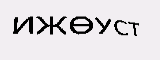О: (76, 22, 91, 46), (91, 22, 105, 42)
Р: (105, 22, 121, 41)
У: (62, 24, 79, 49)
Ф: (42, 24, 64, 51)
